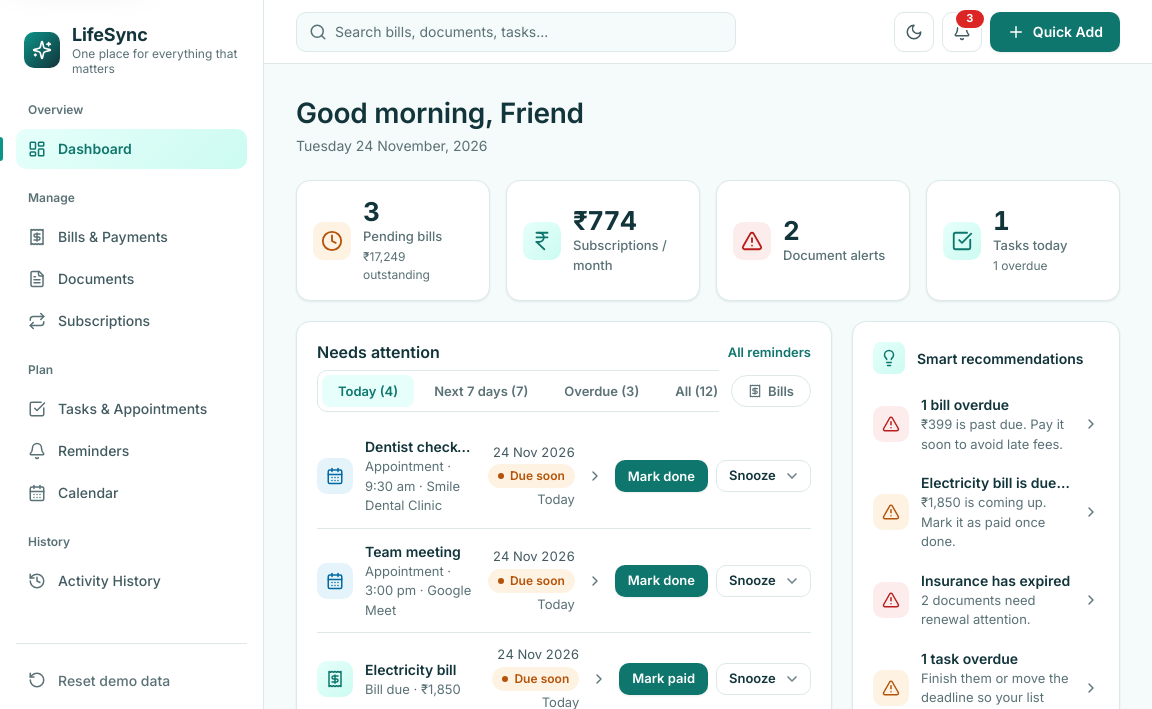
Test: Quick Add › rejects a zero amount with a clear message
Click the button "Quick Add": [1055, 32] box [990,12,1120,52]
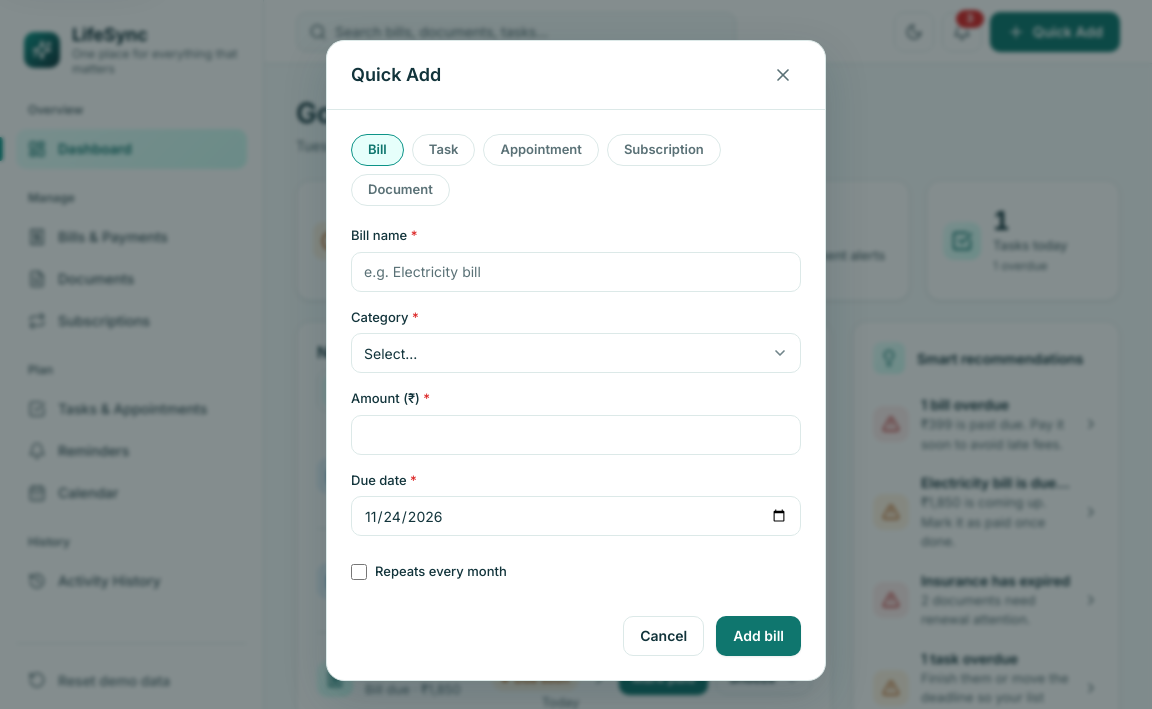
In the field labelled "Bill name *": [576, 271] box [351,251,801,291], type "Gym fees"
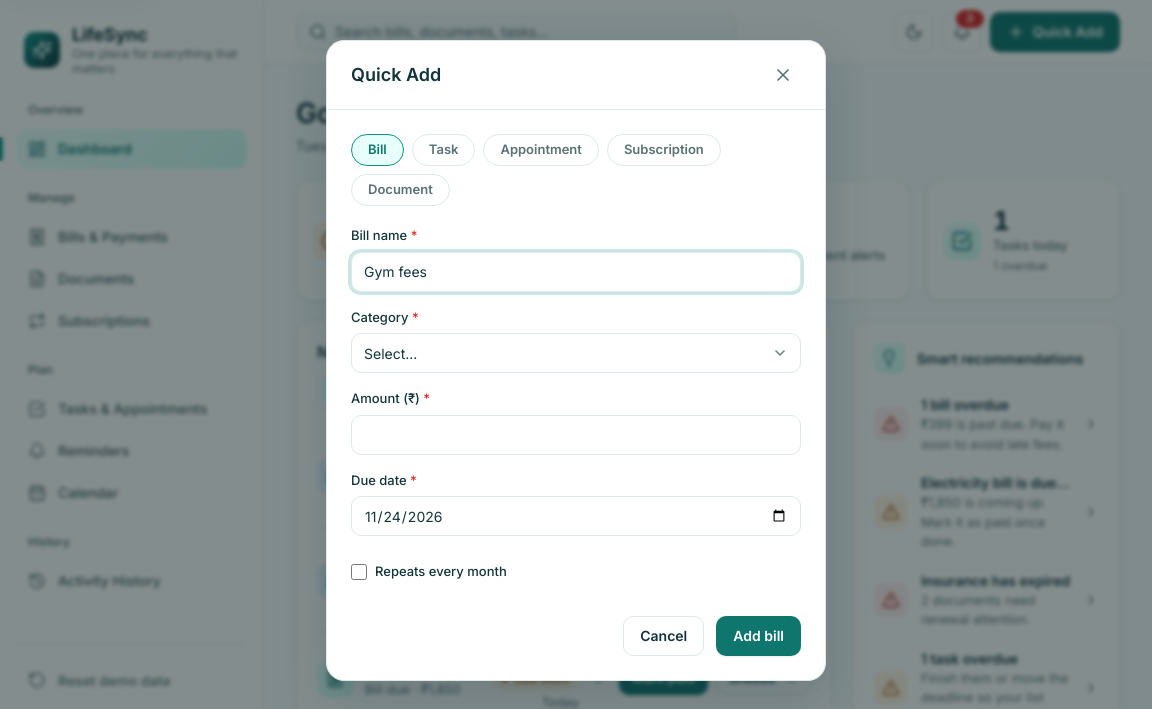
Select "Other" in the dropdown labelled "Category *": [576, 352] box [351,332,801,372]
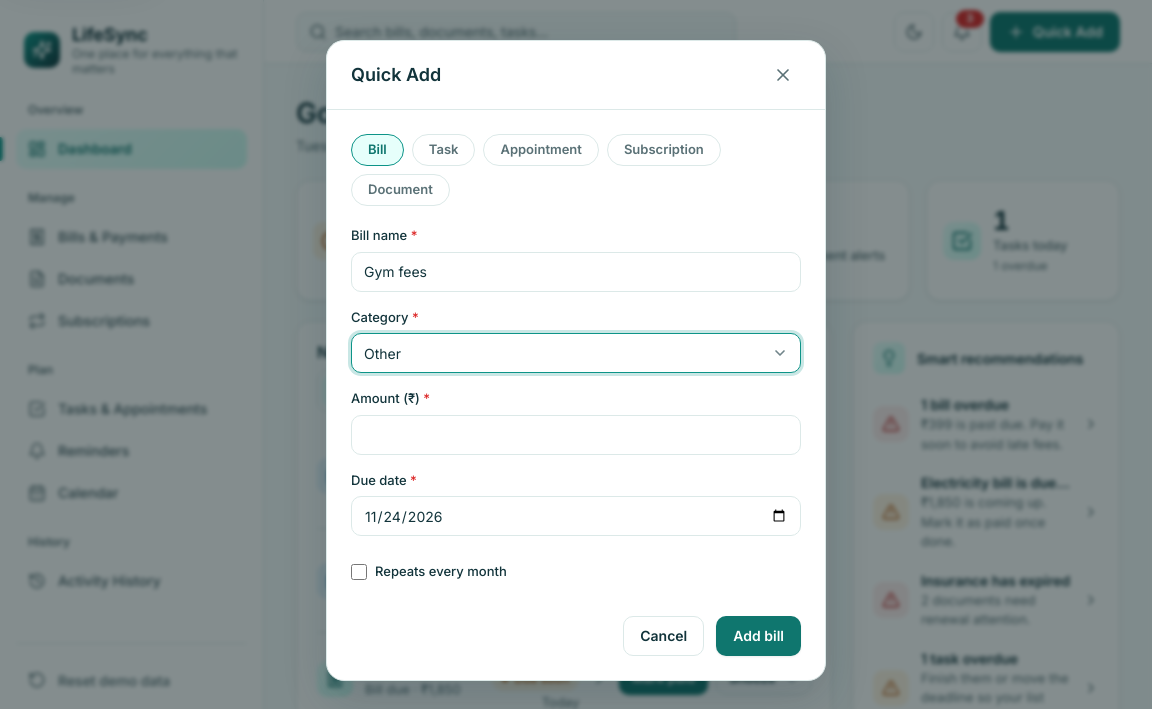
In the number field labelled "Amount (₹) *": [576, 434] box [351,414,801,454], type "0"
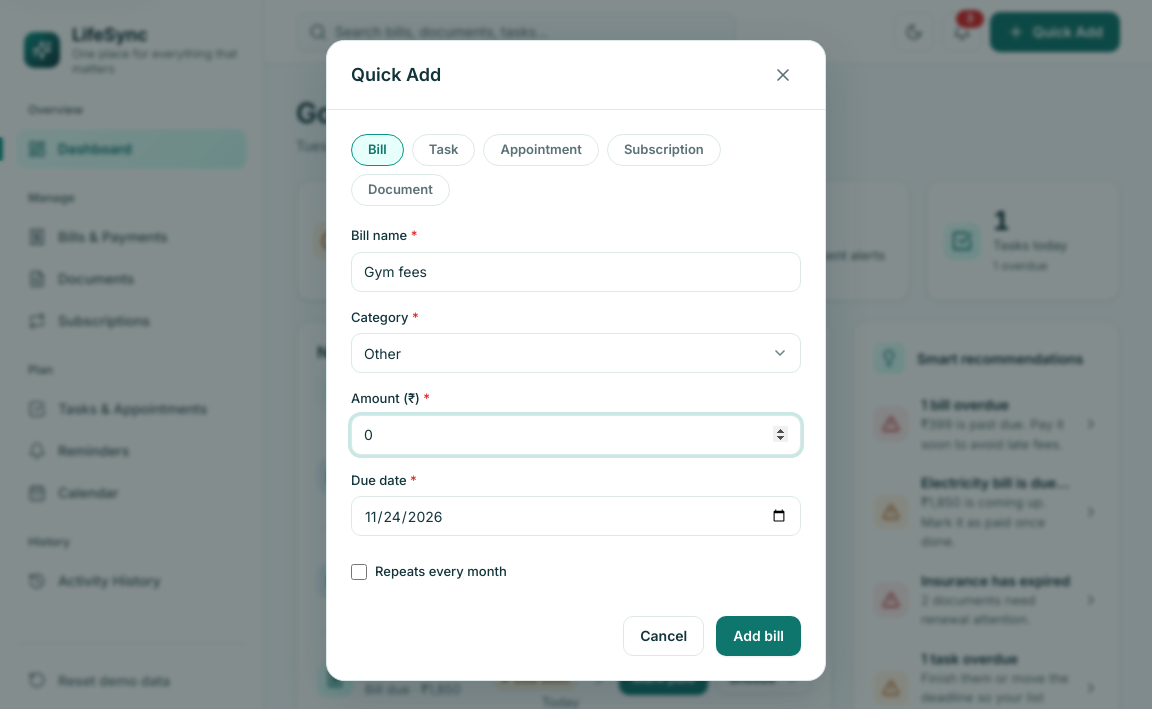
Click the button "Add bill": [759, 636] box [716,616,801,656]
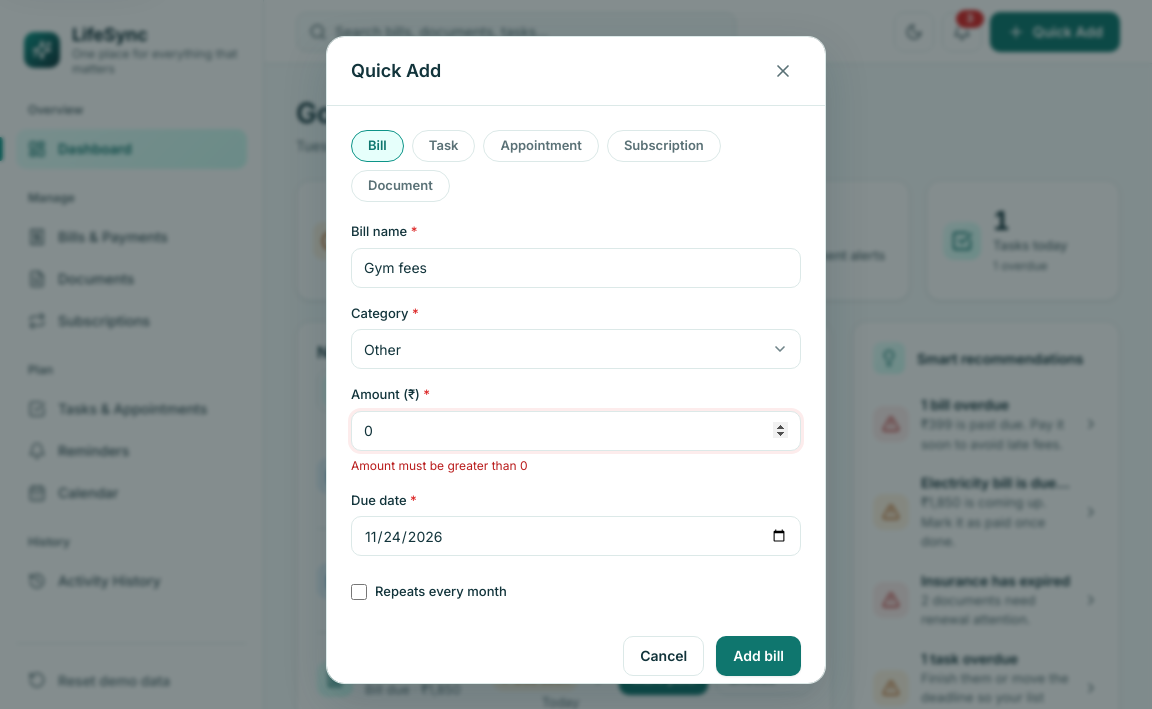
expect the text "Amount must be greater than 0" is shown: met, box [351,458,528,472]
